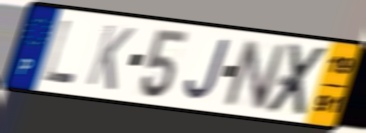5: (139, 26, 192, 100)
J: (183, 37, 233, 102)
K: (83, 22, 137, 94)
L: (41, 18, 78, 86)
N: (222, 37, 289, 113)
X: (263, 42, 332, 118)
